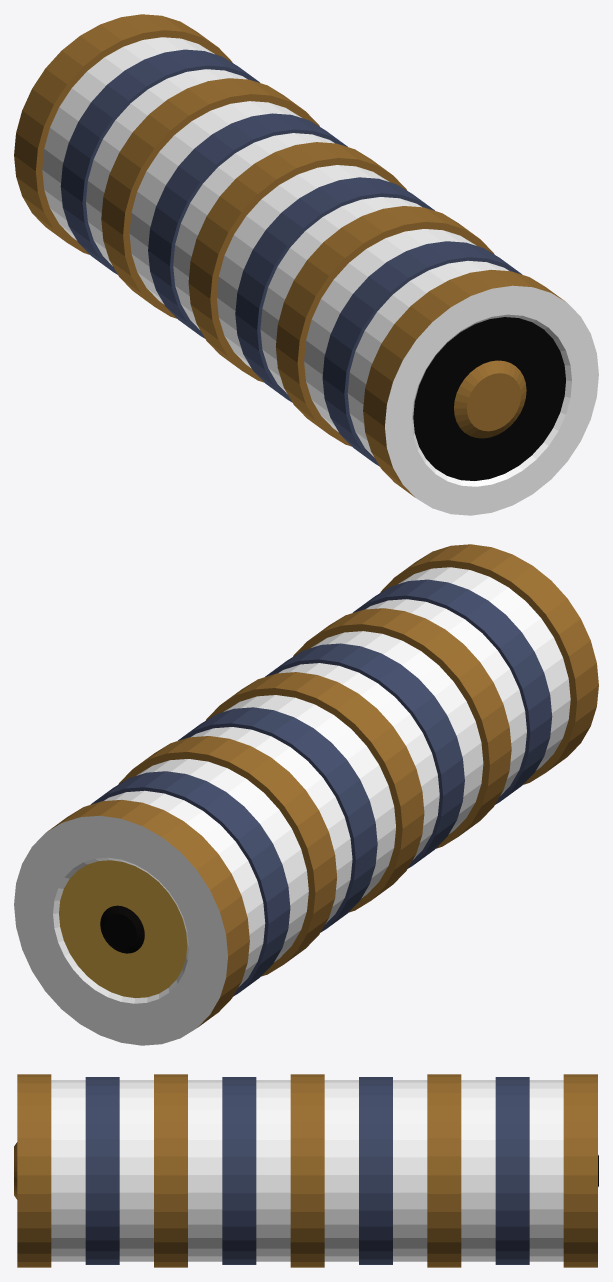
The model's file is EyeCylinder0.5x3_1.fbx.
3 views of the same model, one above another, from view 1: azimuth 30°, elevation 25°; view 2: azimuth 150°, elevation 25°; view 3: azimuth 270°, elevation 25° (orthographic). The views are drawn at different scales.
Parts seen in each view (by area): view 1: EyeCylinder0.5x3_1, Eye.003; view 2: EyeCylinder0.5x3_1, Eye.004; view 3: EyeCylinder0.5x3_1.
Boxes of the visible parts, box(x1,y1,x2,y2) form: EyeCylinder0.5x3_1: box(14, 14, 598, 515); Eye.003: box(454, 360, 526, 438); EyeCylinder0.5x3_1: box(14, 544, 598, 1045); Eye.004: box(100, 905, 144, 953); EyeCylinder0.5x3_1: box(17, 1074, 597, 1267).
Size of the model in its own units: 0.5 by 0.5 by 1.51.
